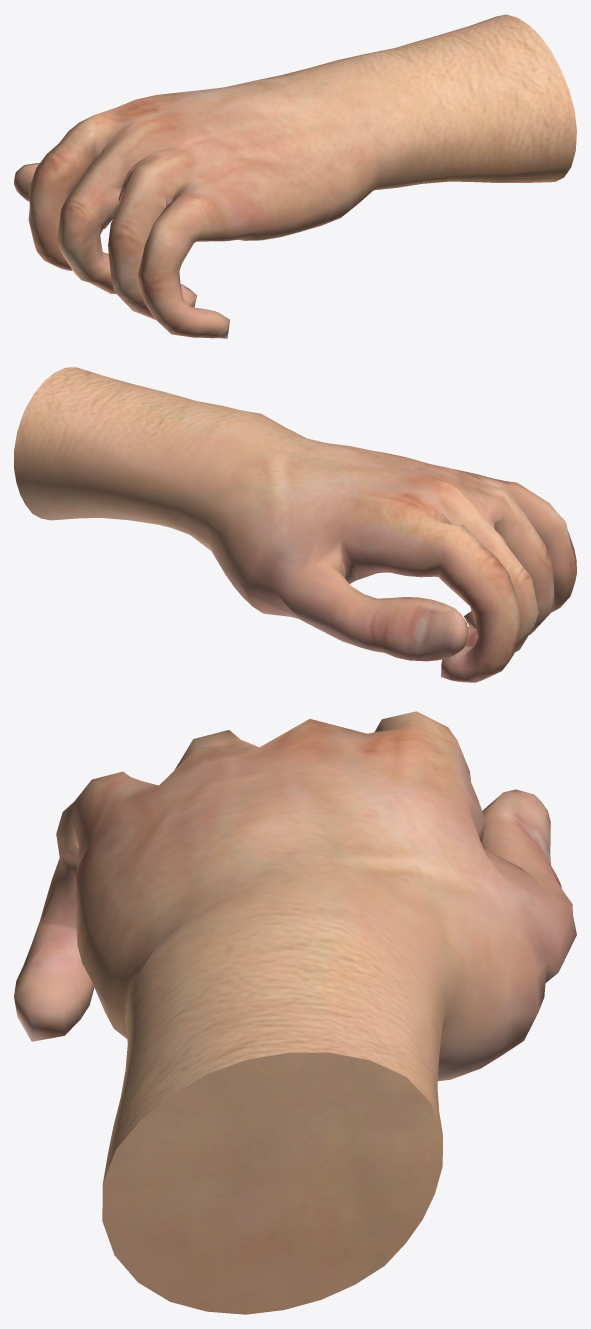
The model's file is BetterLeftHand.fbx.
3 renders of one model, top to bottom at view 1: azimuth 30°, elevation 25°; view 2: azimuth 150°, elevation 25°; view 3: azimuth 270°, elevation 25°, orthographic. The views are drawn at different scales.
Parts seen in each view (by area): view 1: Arm_LEFT; view 2: Arm_LEFT; view 3: Arm_LEFT.
Part boxes in pixels (x1,y1,x2,y2): Arm_LEFT: (14,14,576,338); Arm_LEFT: (14,367,576,682); Arm_LEFT: (14,711,576,1314).
Size of the model in its own units: 21.91 by 7.89 by 11.97.
1 material, 1 textured.
